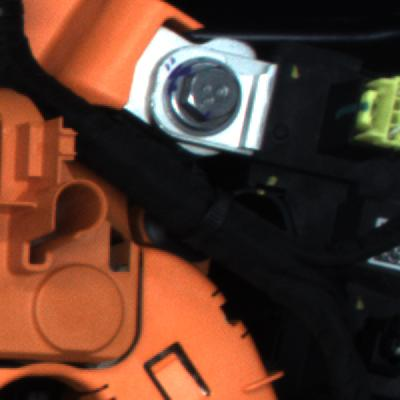nut_b: (169, 57, 264, 143)
